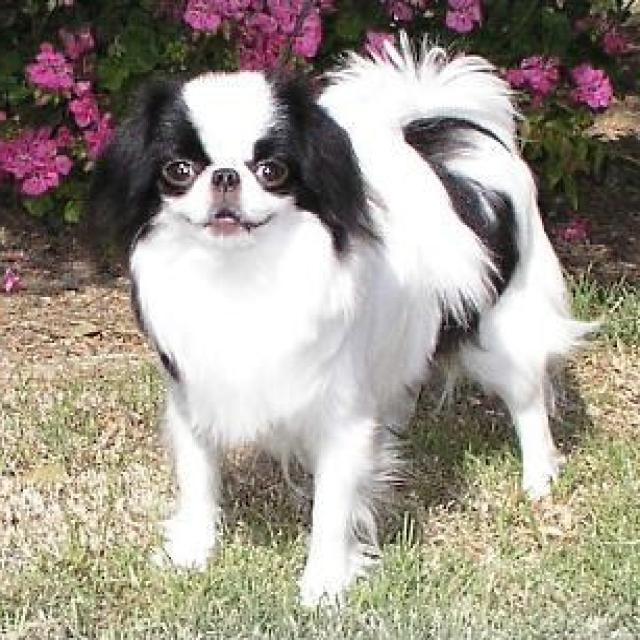husky: (94, 31, 600, 610)
